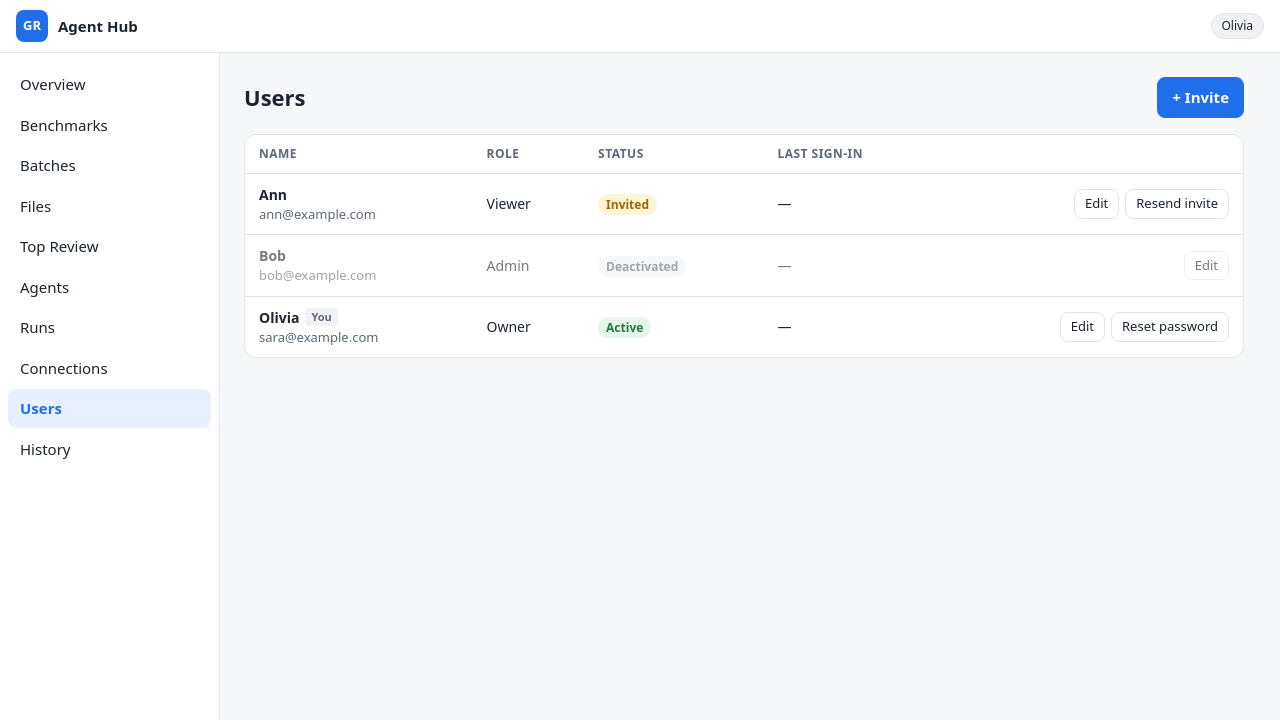
inviting while email isn't set up shows a link to copy
Click the button "+ Invite": (1201, 97) [1157,77,1244,118]
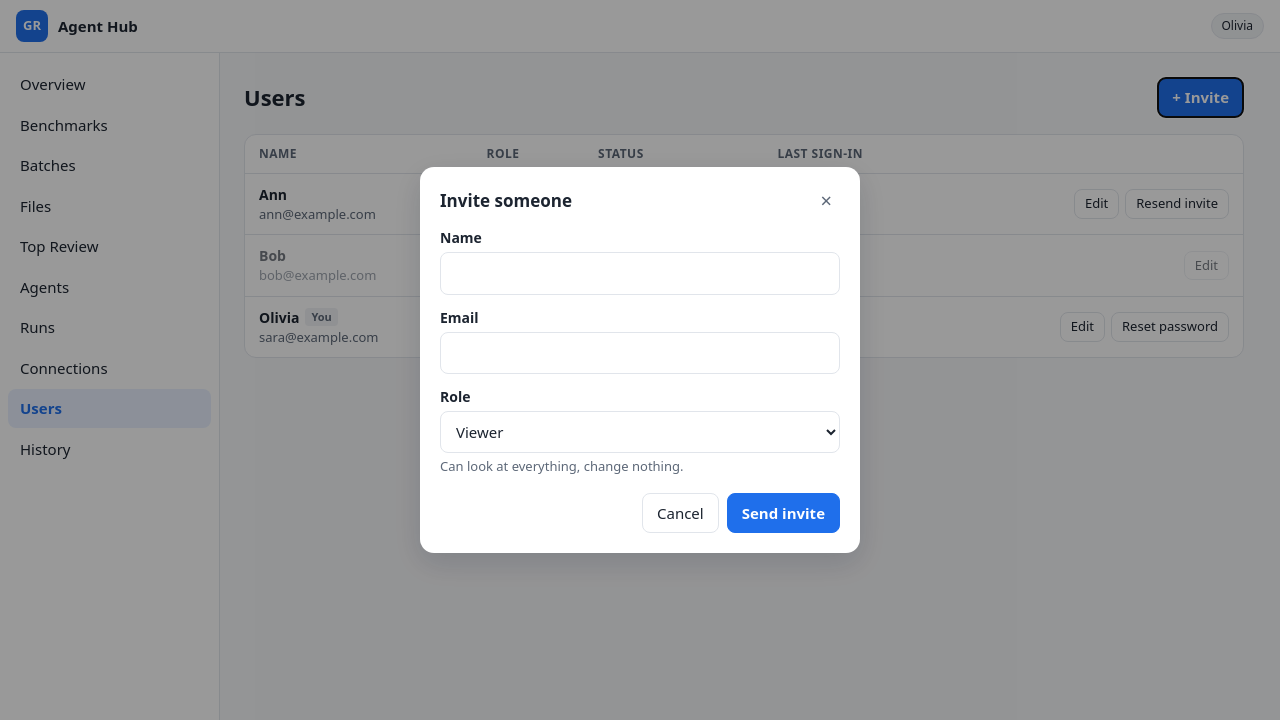
In the field labelled "Name": (640, 273) [440,252,840,294], type "Nadia"
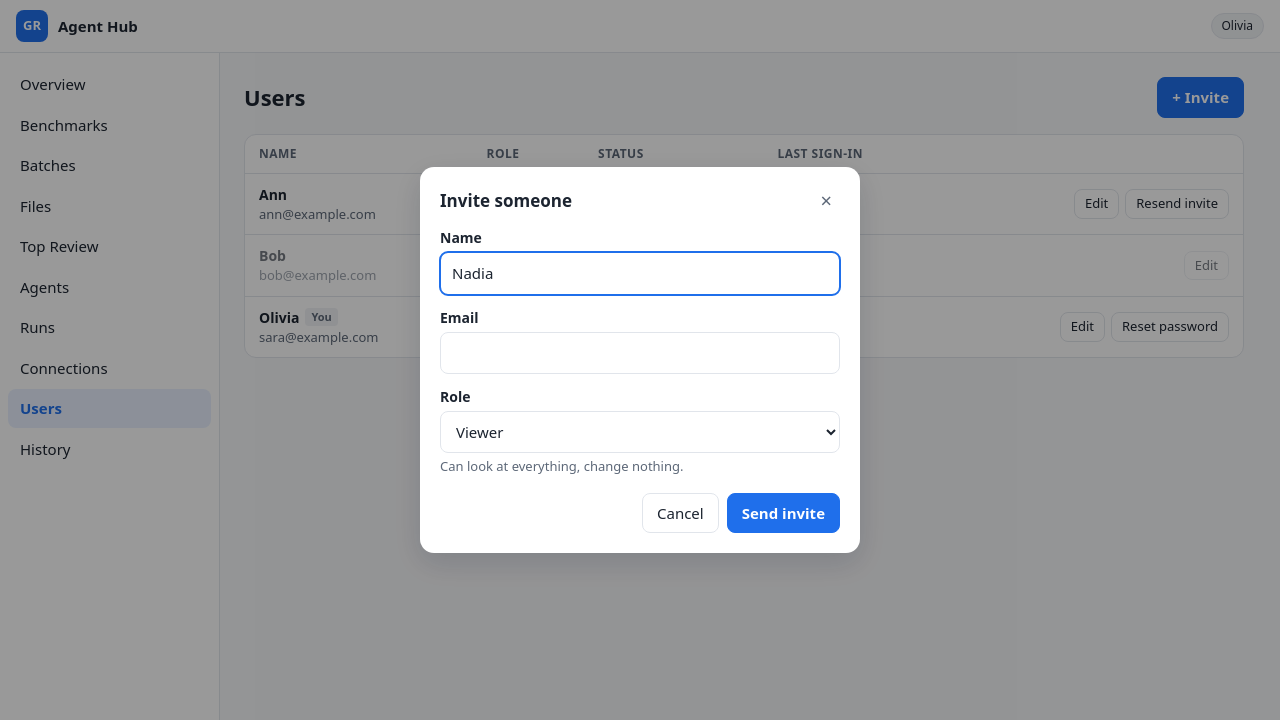
In the field labelled "Email": (640, 353) [440,332,840,374], type "nadia@example.com"
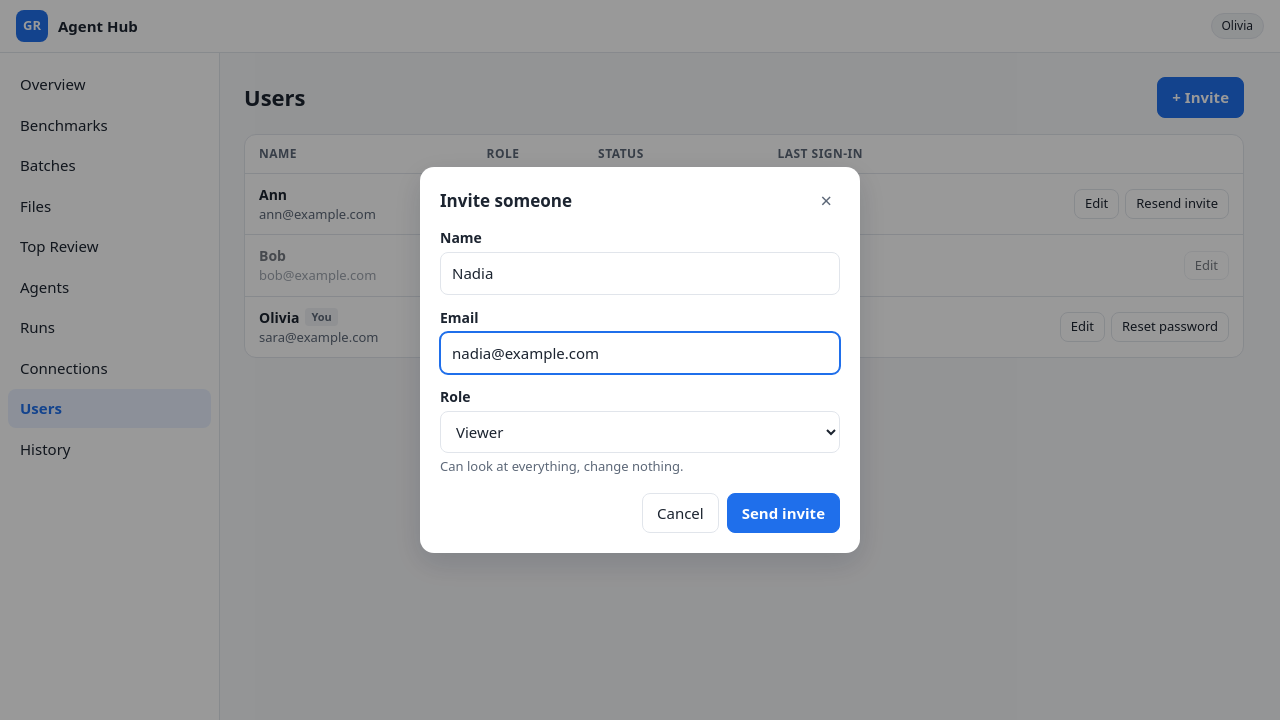
Select "Admin" in the dropdown labelled "Role": (640, 432) [440,411,840,453]
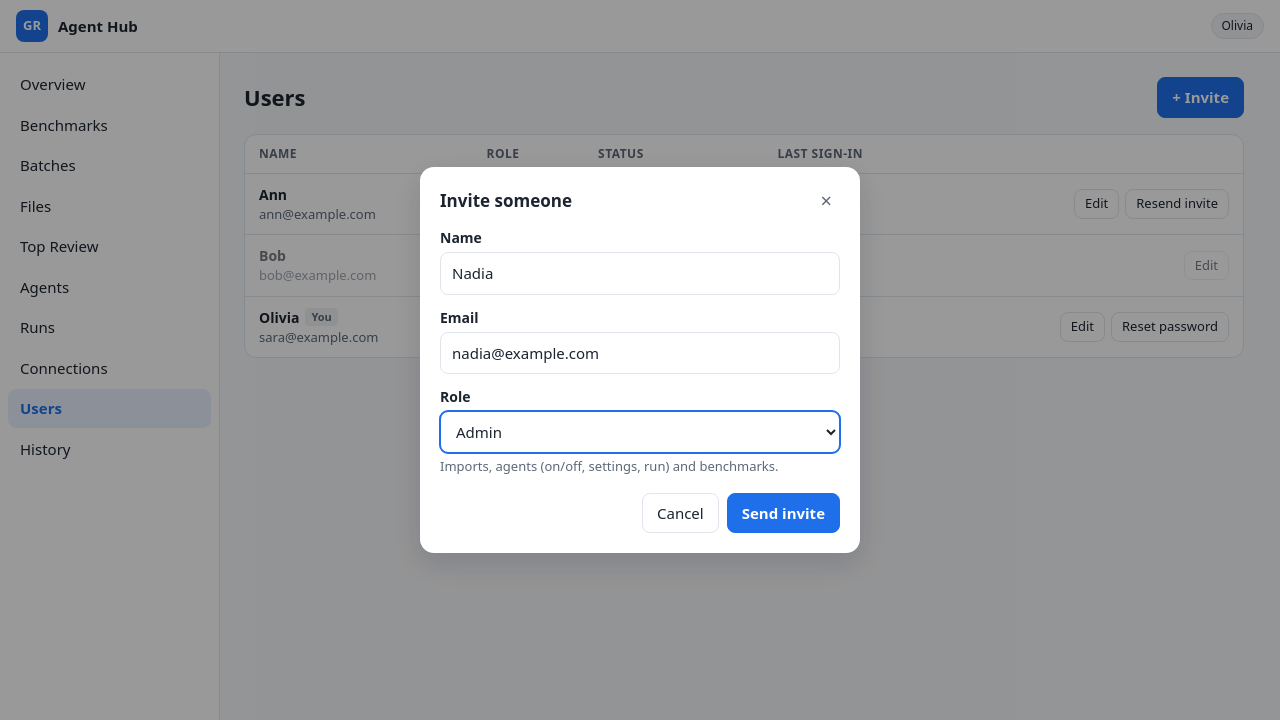
Click the button "Send invite": (783, 513) [727,492,840,533]
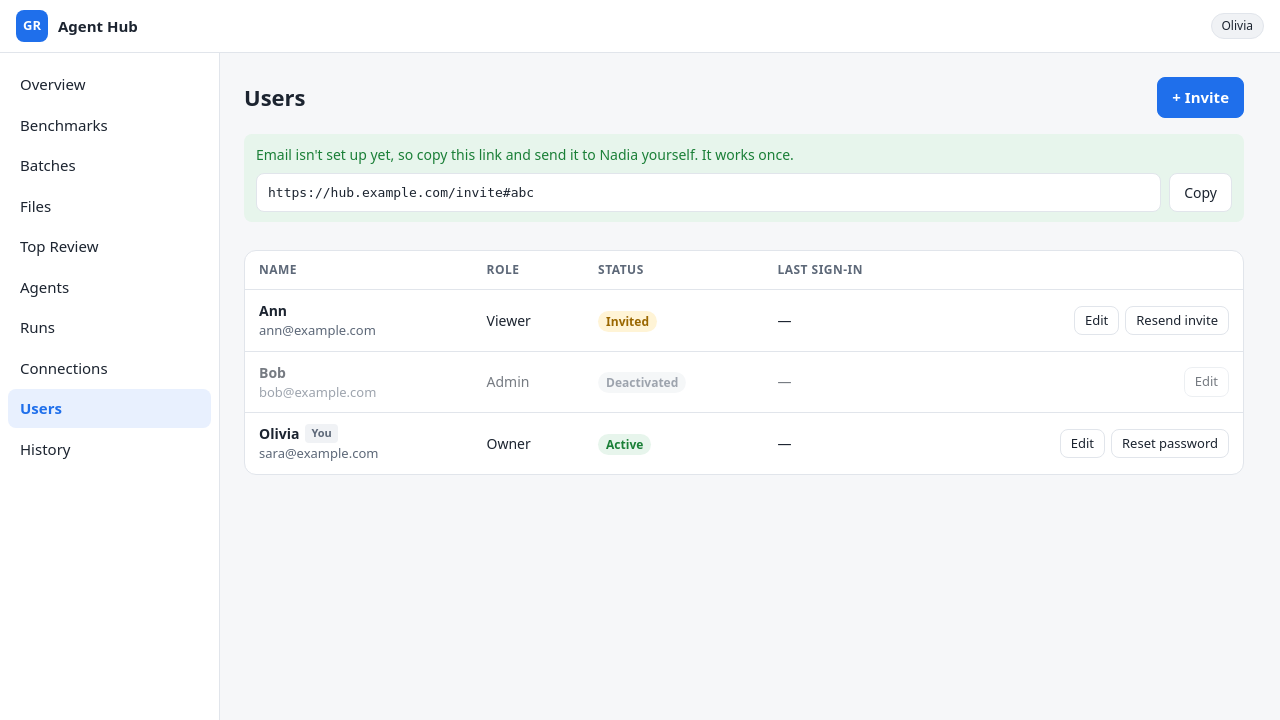
Check: the text "copy this link and send it to Nadia" is shown, box [256,144,794,164]
Check: the field named "Link" holds "https://hub.example.com/invite#abc", box [256,172,1161,212]
